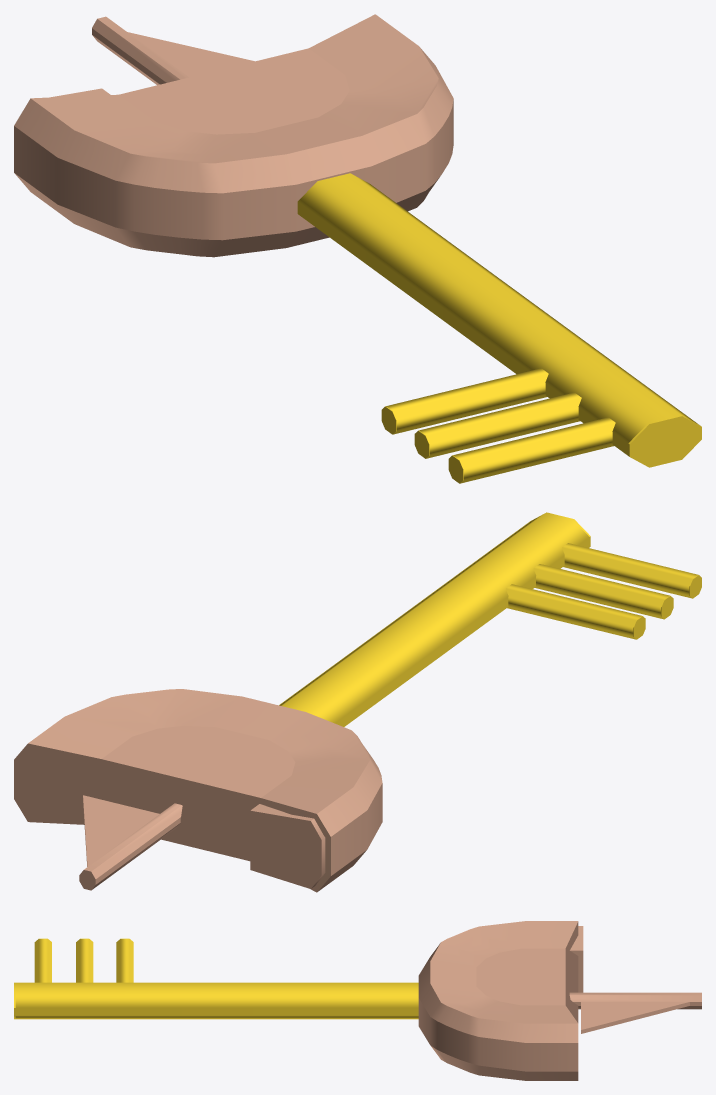
File: PIRATE_KEY.fbx
3 renders of one model, top to bottom at view 1: azimuth 30°, elevation 25°; view 2: azimuth 150°, elevation 25°; view 3: azimuth 270°, elevation 25°, orthographic. The views are drawn at different scales.
Visible parts, largest first — view 1: KEY1; view 2: KEY1; view 3: KEY1.
Boxes of the visible parts, x1=… form: KEY1: x1=14, y1=14, x2=701, y2=483; KEY1: x1=14, y1=512, x2=701, y2=892; KEY1: x1=14, y1=921, x2=701, y2=1080.
Bounding box in the file's own units: 9.47 × 2.24 × 24.47.
